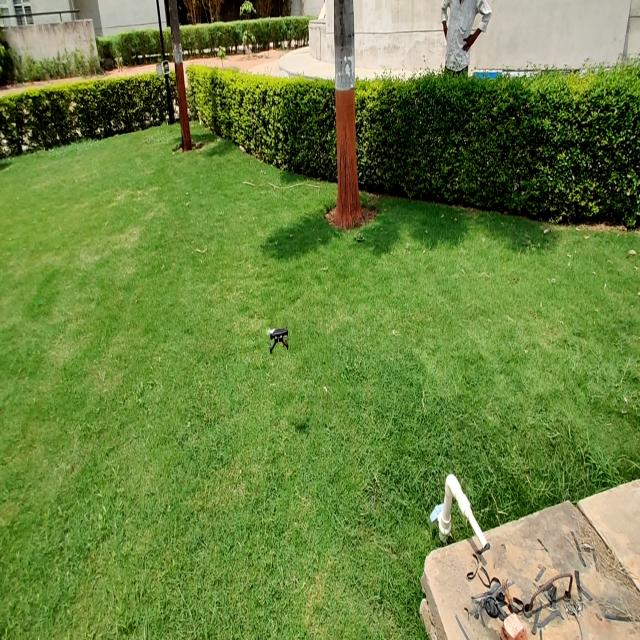drone: (260, 321, 297, 362)
